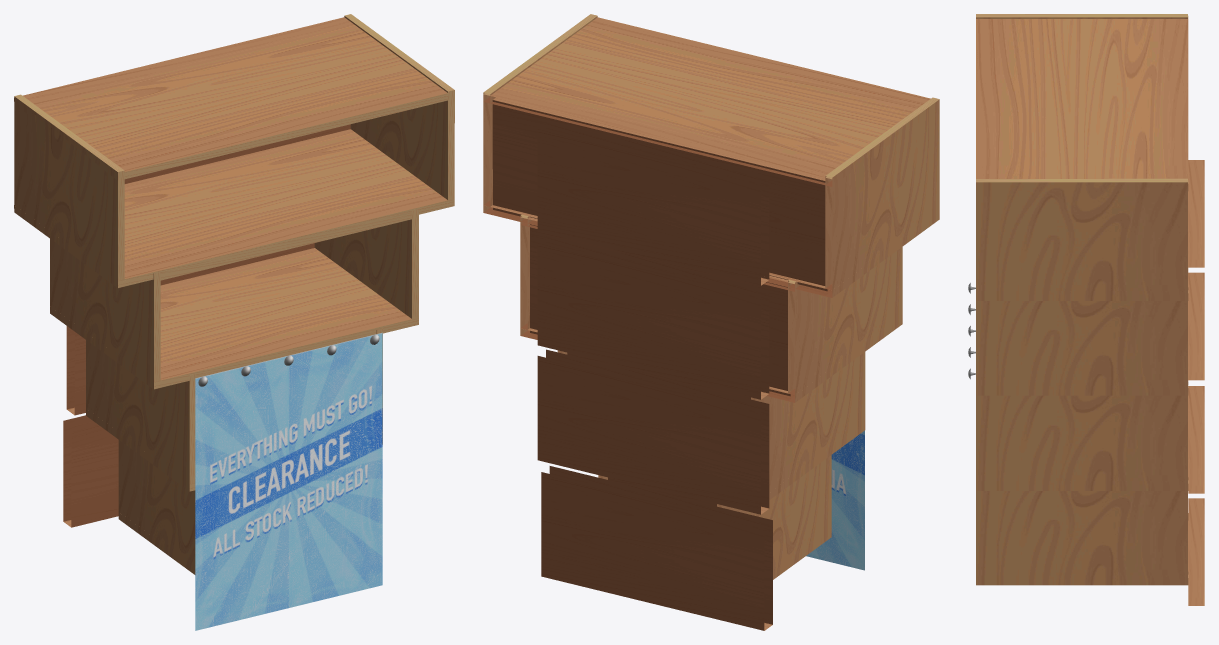
The model's file is layout_poster_upsideDownTriangle.fbx.
3 renders of one model, left to right at view 1: azimuth 30°, elevation 25°; view 2: azimuth 150°, elevation 25°; view 3: azimuth 270°, elevation 25°, orthographic. The views are drawn at different scales.
Visible parts, largest first — view 1: Mesh-Poster-Large01, Shelf-TM-00 3, Shelf-BM-00 3, Shelf-BM-00 1, Shelf-CL-01 3, Shelf-CL-01 1, Shelf-CL-01, Shelf-CR-01 3, Shelf-CR-01 1, Shelf-CL-01 2, Shelf-Back-00 (1) 2, Shelf-TM-00 1 (+7 smaller); view 2: Shelf-TM-00 3, Shelf-Back-00 (1), Shelf-Back-00 (1) 3, Shelf-Back-00 (1) 1, Shelf-Back-00 (1) 2, Shelf-CL-01 3, Shelf-Back-00 3, Shelf-CL-01 1, Shelf-CL-01, Shelf-CL-01 2, Mesh-Poster-Large01, Shelf-Back-00 1 (+6 smaller); view 3: Shelf-TM-00 3, Shelf-CR-01 3, Shelf-CR-01, Shelf-CR-01 1, Shelf-CR-01 2, Shelf-Back-00 (1) 1, Shelf-Back-00 (1), Shelf-Back-00 (1) 2, Shelf-Back-00 (1) 3, Shelf-CR-00, Shelf-CR-00 1, Shelf-CR-00 3 (+2 smaller).
Boxes of the visible parts, box(x1,y1,x2,y2) form: Mesh-Poster-Large01: box(195, 332, 382, 630); Shelf-TM-00 3: box(23, 17, 447, 179); Shelf-BM-00 3: box(124, 129, 447, 286); Shelf-BM-00 1: box(160, 248, 411, 387); Shelf-CL-01 3: box(14, 94, 124, 280); Shelf-CL-01 1: box(50, 239, 160, 381); Shelf-CL-01: box(86, 340, 196, 483); Shelf-CR-01 3: box(344, 14, 454, 200); Shelf-CR-01 1: box(314, 209, 418, 318); Shelf-CL-01 2: box(118, 440, 195, 567); Shelf-Back-00 (1) 2: box(63, 415, 118, 527); Shelf-TM-00 1: box(160, 212, 411, 280); Shelf-TM-00 3: box(490, 17, 930, 184); Shelf-Back-00 (1): box(537, 349, 769, 514); Shelf-Back-00 (1) 3: box(537, 120, 769, 285); Shelf-Back-00 (1) 1: box(537, 234, 769, 399); Shelf-Back-00 (1) 2: box(541, 466, 772, 630); Shelf-CL-01 3: box(825, 97, 939, 290); Shelf-Back-00 3: box(492, 97, 827, 291); Shelf-CL-01 1: box(788, 247, 902, 395); Shelf-CL-01: box(751, 352, 865, 492); Shelf-CL-01 2: box(717, 455, 831, 572); Mesh-Poster-Large01: box(806, 430, 864, 570); Shelf-Back-00 1: box(530, 224, 790, 396); Shelf-TM-00 3: box(976, 19, 1188, 179); Shelf-CR-01 3: box(976, 178, 1188, 293); Shelf-CR-01: box(976, 395, 1188, 483); Shelf-CR-01 1: box(976, 301, 1188, 387); Shelf-CR-01 2: box(976, 491, 1188, 577); Shelf-Back-00 (1) 1: box(1188, 272, 1204, 380); Shelf-Back-00 (1): box(1188, 386, 1204, 493); Shelf-Back-00 (1) 2: box(1188, 498, 1204, 605); Shelf-Back-00 (1) 3: box(1188, 160, 1204, 267); Shelf-CR-00: box(976, 480, 1188, 490); Shelf-CR-00 1: box(976, 385, 1188, 395); Shelf-CR-00 3: box(976, 290, 1188, 300).
Size of the model in its own units: 150 by 202 by 89.21.
